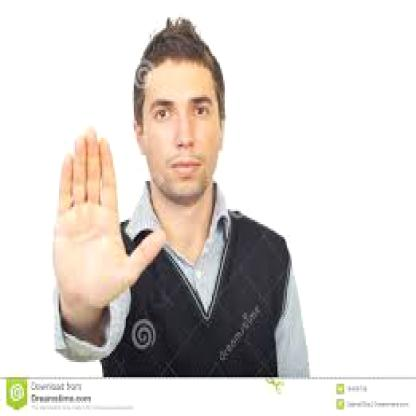Stop: (54, 129, 166, 304)
